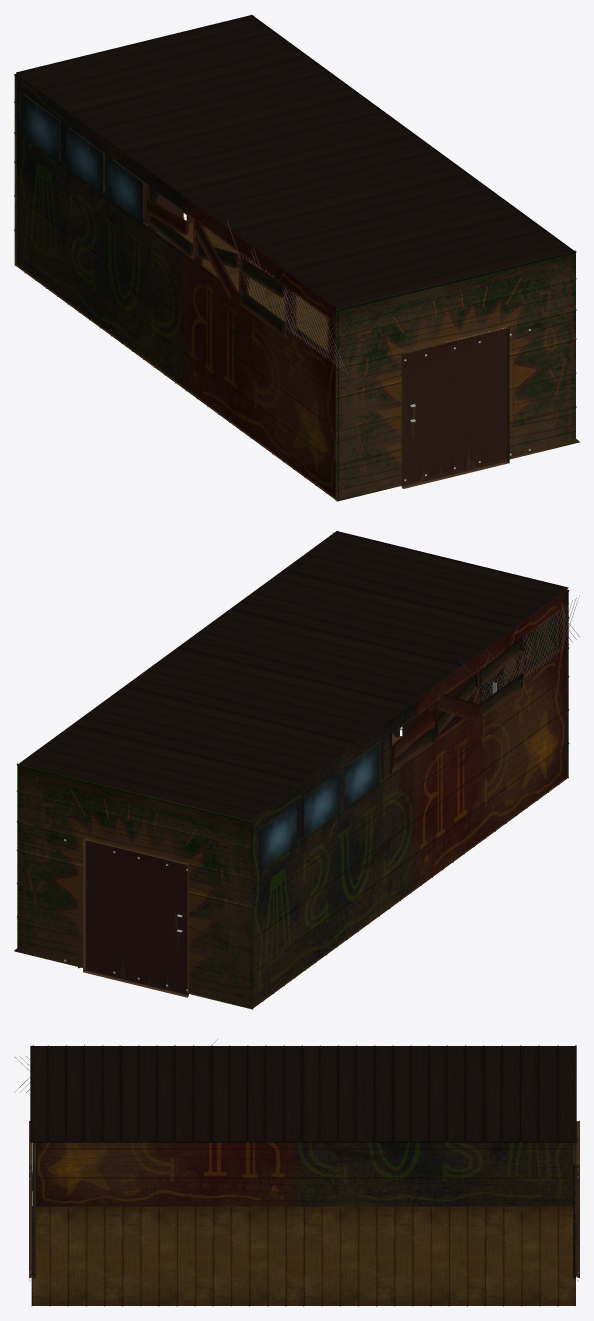
The model's file is 1_3_SHELL.fbx.
3 views of the same model, one above another, from view 1: azimuth 30°, elevation 25°; view 2: azimuth 150°, elevation 25°; view 3: azimuth 270°, elevation 25° (orthographic). The views are drawn at different scales.
Visible parts, largest first — view 1: Windowed_Wall, pPlane23, Alt_Door2, Modular_Ceiling11, Modular_Ceiling1, Modular_Ceiling7, Modular_Ceiling9, Modular_Ceiling8, Modular_Ceiling10, Window5, Window4, Window3 (+7 smaller); view 2: Windowed_Wall, pPlane1, Alt_Door, Modular_Ceiling11, Modular_Ceiling1, Modular_Ceiling8, Modular_Ceiling10, Modular_Ceiling7, Modular_Ceiling9, pPlane23, Window4, Window5 (+7 smaller); view 3: Windowed_Wall, Modular_Ceiling11, Modular_Ceiling8, Modular_Ceiling9, Modular_Ceiling7, Modular_Ceiling1, Modular_Ceiling10, Modular_Floorboard13, Modular_Floorboard8, Modular_Floorboard11, Modular_Floorboard16, Modular_Floorboard14 (+13 smaller).
Boxes of the visible parts, bbox=[...] form: Windowed_Wall: bbox=[16, 74, 338, 499]; pPlane23: bbox=[335, 250, 576, 500]; Alt_Door2: bbox=[401, 327, 509, 488]; Modular_Ceiling11: bbox=[16, 14, 306, 112]; Modular_Ceiling1: bbox=[286, 212, 575, 309]; Modular_Ceiling7: bbox=[232, 173, 521, 270]; Modular_Ceiling9: bbox=[125, 94, 413, 191]; Modular_Ceiling8: bbox=[178, 133, 467, 231]; Modular_Ceiling10: bbox=[71, 55, 359, 152]; Window5: bbox=[22, 94, 59, 162]; Window4: bbox=[66, 126, 102, 194]; Window3: bbox=[107, 156, 142, 223]; Windowed_Wall: bbox=[251, 589, 567, 1005]; pPlane1: bbox=[16, 763, 253, 1008]; Alt_Door: bbox=[83, 839, 188, 997]; Modular_Ceiling11: bbox=[19, 724, 303, 820]; Modular_Ceiling1: bbox=[284, 531, 568, 626]; Modular_Ceiling8: bbox=[179, 608, 462, 703]; Modular_Ceiling10: bbox=[73, 685, 356, 781]; Modular_Ceiling7: bbox=[232, 569, 515, 665]; Modular_Ceiling9: bbox=[126, 646, 409, 742]; pPlane23: bbox=[333, 532, 569, 778]; Window4: bbox=[303, 772, 339, 838]; Window5: bbox=[260, 803, 296, 869]; Windowed_Wall: bbox=[36, 1142, 572, 1206]; Modular_Ceiling11: bbox=[483, 1045, 576, 1142]; Modular_Ceiling8: bbox=[211, 1045, 302, 1142]; Modular_Ceiling9: bbox=[302, 1045, 392, 1142]; Modular_Ceiling7: bbox=[121, 1045, 211, 1142]; Modular_Ceiling1: bbox=[30, 1045, 120, 1142]; Modular_Ceiling10: bbox=[393, 1045, 483, 1142]; Modular_Floorboard13: bbox=[122, 1206, 213, 1256]; Modular_Floorboard8: bbox=[122, 1256, 213, 1306]; Modular_Floorboard11: bbox=[394, 1256, 485, 1306]; Modular_Floorboard16: bbox=[394, 1206, 485, 1256]; Modular_Floorboard14: bbox=[213, 1206, 303, 1256].
Size of the model in its own units: 339 by 261 by 788.
